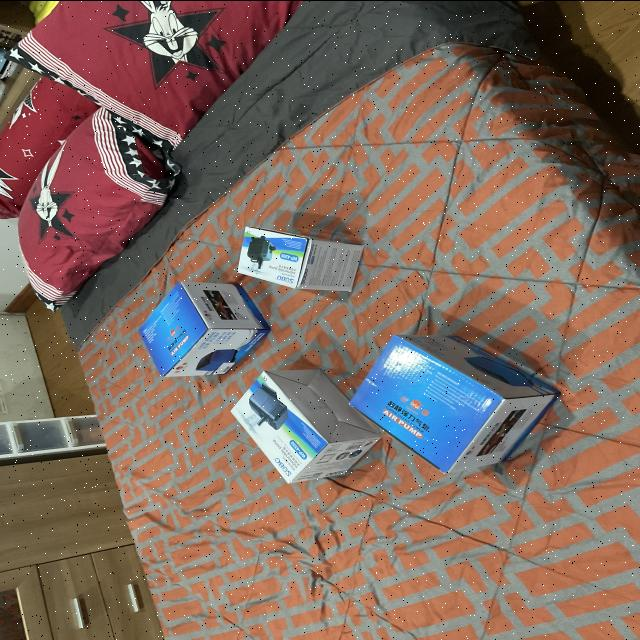SOBO_WP_4200: (228, 356, 380, 488), (223, 218, 367, 299)
YAMANO_LPP_20: (346, 314, 558, 480), (124, 273, 266, 381)
